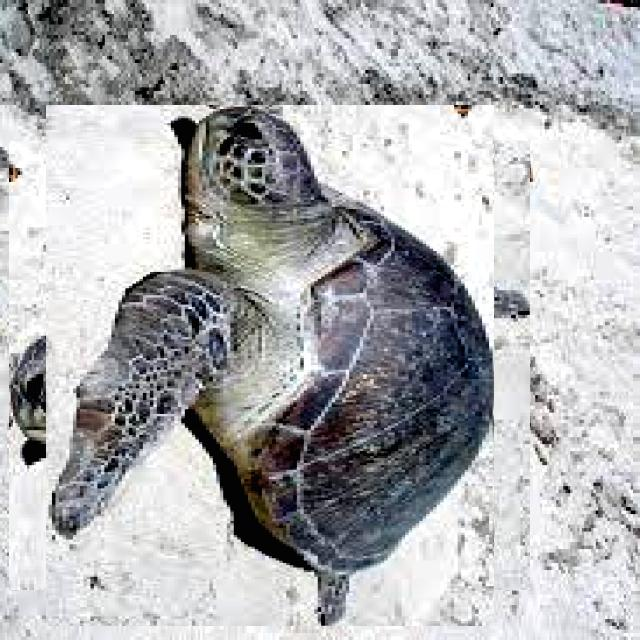Sea turtle: (27, 123, 512, 608)
